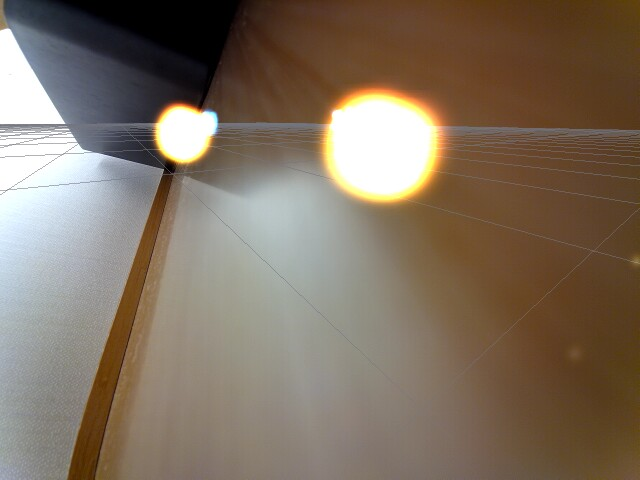firebig: (315, 75, 451, 217)
